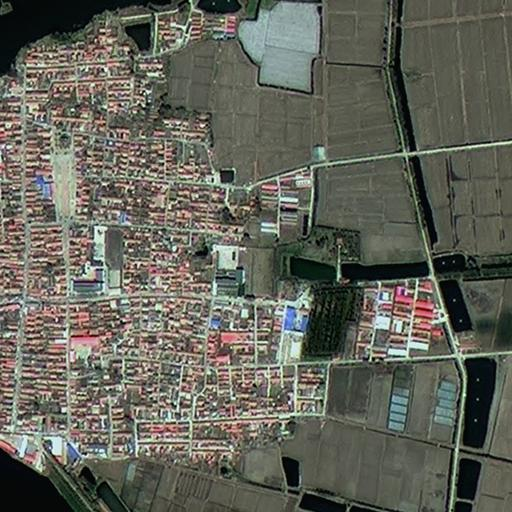school: (71, 224, 127, 299)
